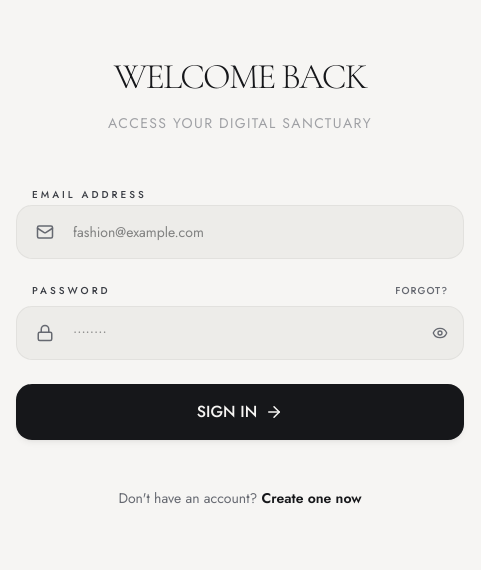
Scenario: login failures are explained › a server that does not answer says it can not be reached - not "invalid credentials"
Type "nobody@example.com" into the field with placeholder "fashion@example.com" at (240,232), box x1=16 y1=204 x2=464 y2=258
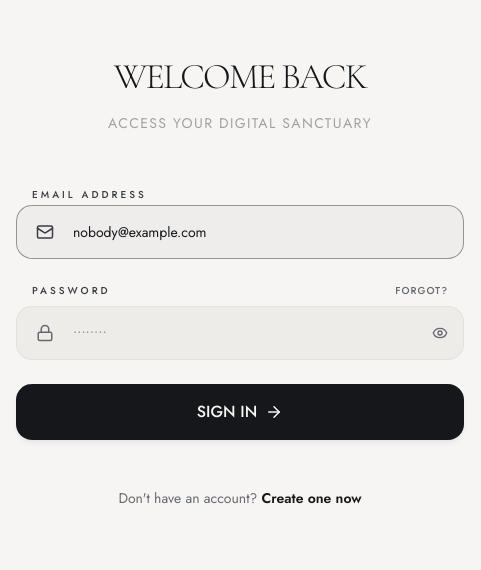
Type "wrong-password" into the password field with placeholder "••••••••" at (240,332), box x1=16 y1=306 x2=464 y2=360
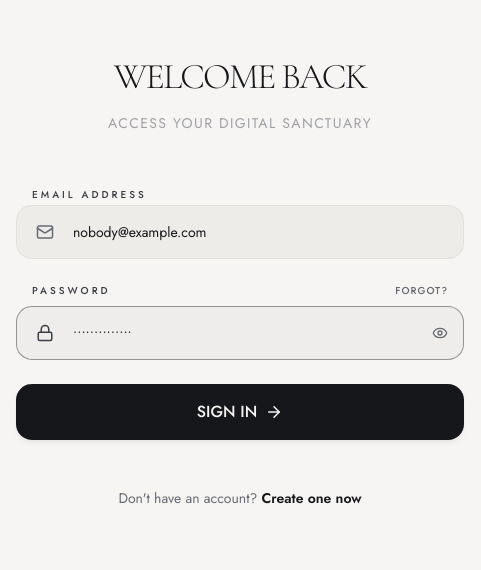
Click the button "SIGN IN" at (240,412), box x1=16 y1=384 x2=464 y2=440
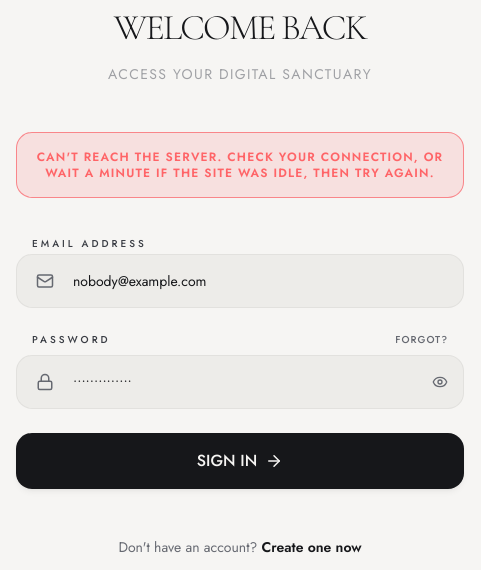
Expected: the message shows "Can't reach the server. Check your connection, or wait a minute if the site was idle, then try again.", x1=37 y1=148 x2=443 y2=182
